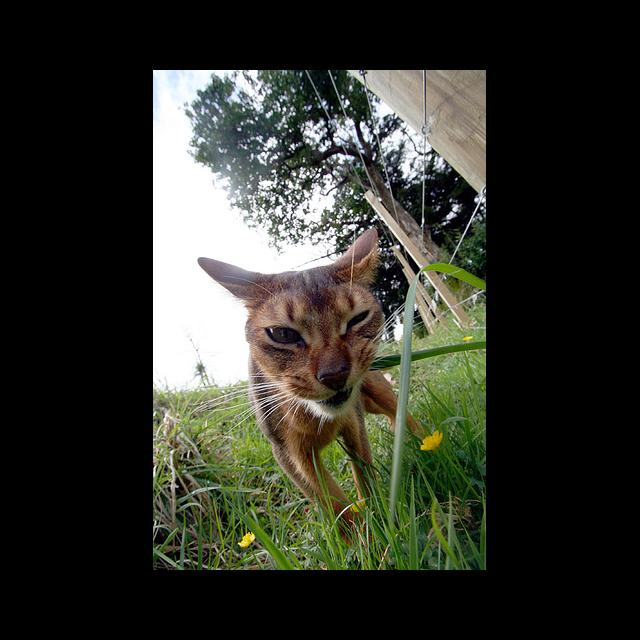animals: (200, 228, 372, 387)
